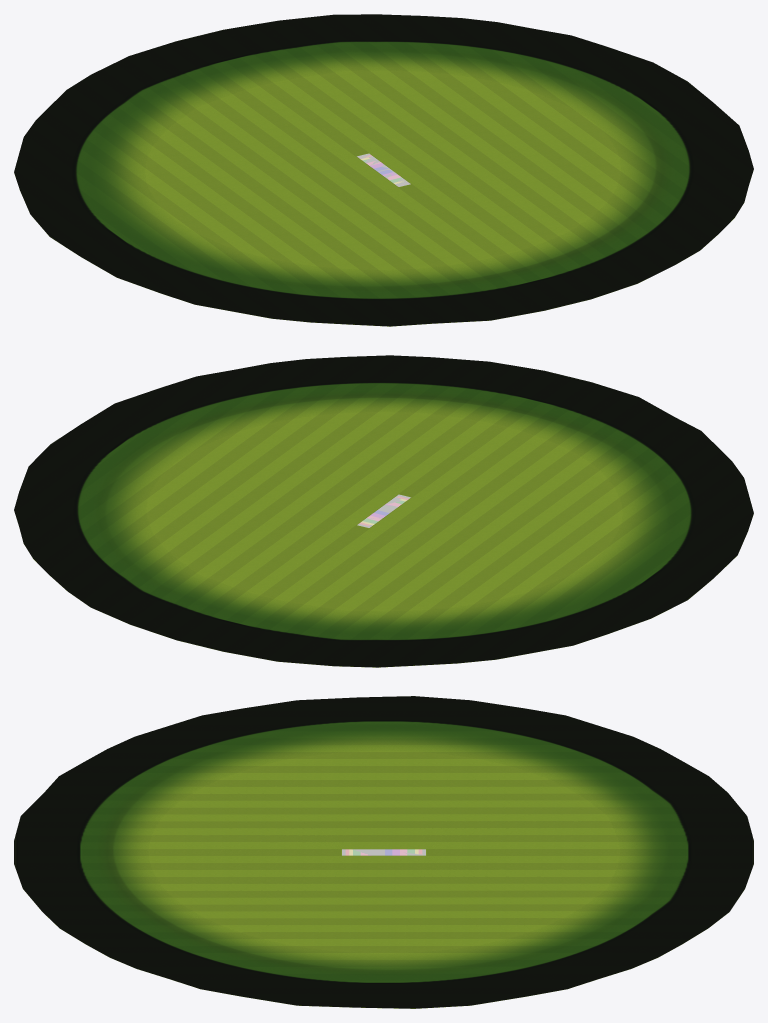
Rendered from pitch_map_v2.glb.
3 renders of one model, top to bottom at view 1: azimuth 30°, elevation 25°; view 2: azimuth 150°, elevation 25°; view 3: azimuth 270°, elevation 25°, orthographic.
Parts seen in each view (by area): view 1: ground_line1, ground_overlay; view 2: ground_line1, ground_overlay; view 3: ground_line1, ground_overlay.
Boxes of the visible parts, bbox=[...] form: ground_line1: bbox=[38, 42, 734, 326]; ground_overlay: bbox=[14, 14, 753, 326]; ground_line1: bbox=[33, 383, 736, 667]; ground_overlay: bbox=[14, 355, 753, 667]; ground_line1: bbox=[26, 722, 753, 1008]; ground_overlay: bbox=[14, 696, 753, 1008].
Bounding box in the file's own units: 198 × 0.0287 × 198.
Materials: 12 (3 with a texture image).
